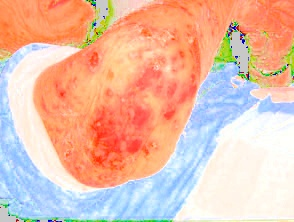SJS-TEN: (24, 0, 242, 200)
